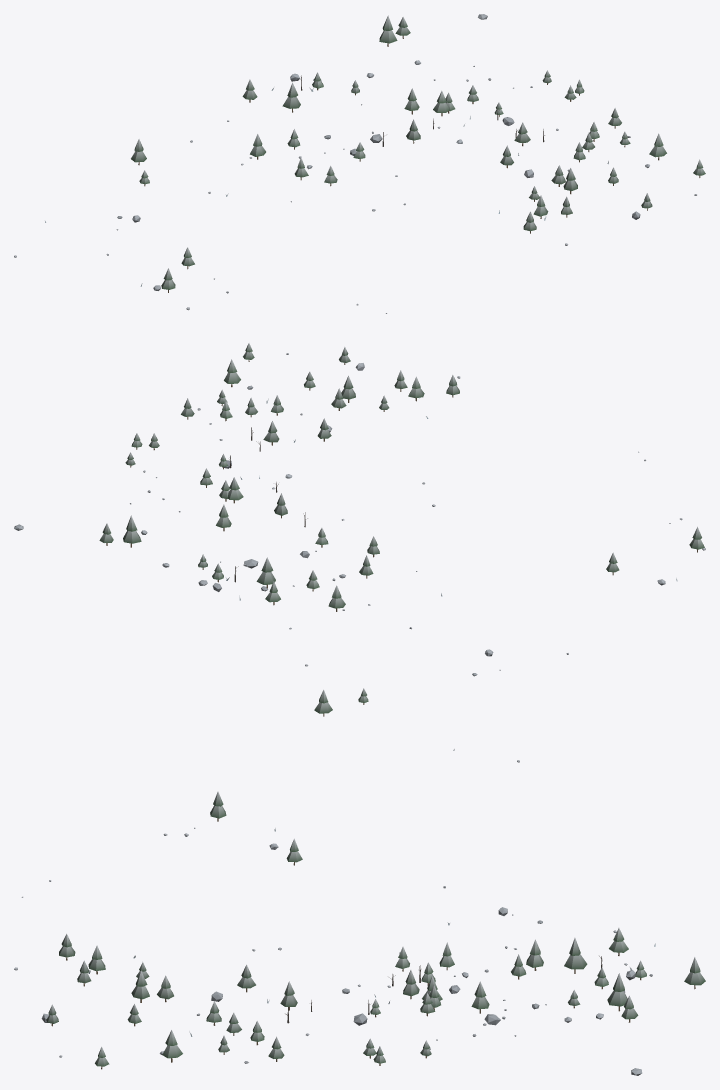
Rendered from frost_land_scatter_c13_09_lod1.glb.
3 renders of one model, top to bottom at view 1: azimuth 30°, elevation 25°; view 2: azimuth 150°, elevation 25°; view 3: azimuth 270°, elevation 25°, orthographic. The views are drawn at different scales.
Parts seen in each view (by area): view 1: frost_land_scatter_c13_09_lod1; view 2: frost_land_scatter_c13_09_lod1; view 3: frost_land_scatter_c13_09_lod1.
Boxes of the visible parts, box(x1,y1,x2,y2) form: frost_land_scatter_c13_09_lod1: box(14, 14, 705, 313); frost_land_scatter_c13_09_lod1: box(14, 343, 705, 762); frost_land_scatter_c13_09_lod1: box(14, 791, 705, 1075).
Size of the model in its own units: 259 by 74.48 by 257.
